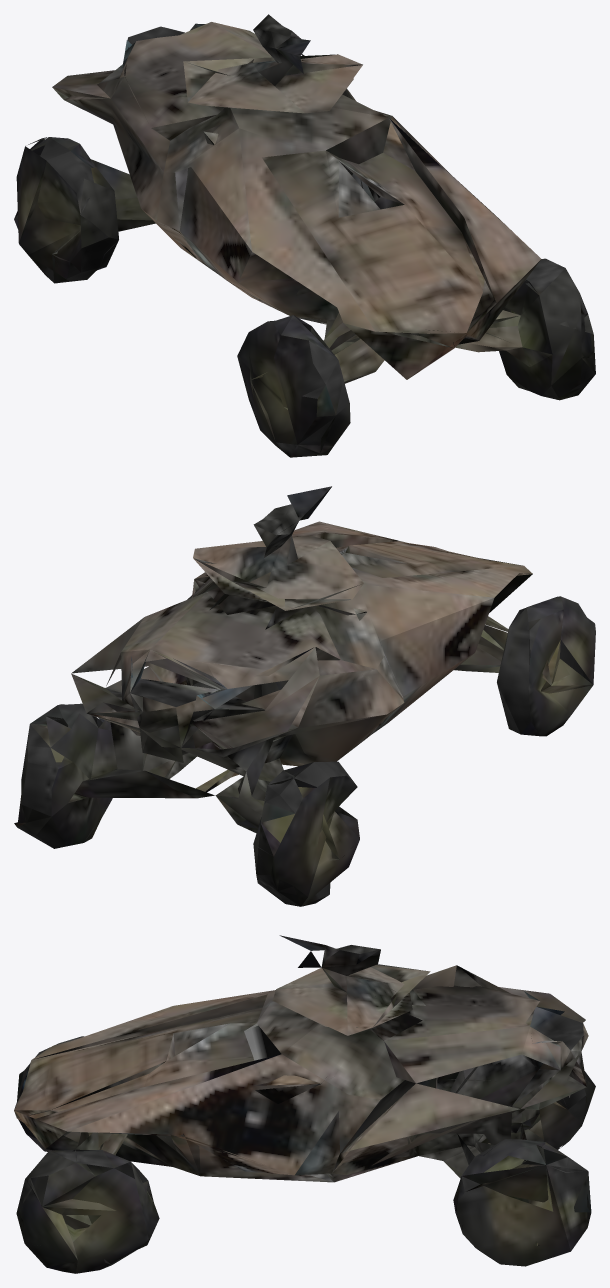
The model's file is buggy_1310892599_lod0.glb.
3 renders of one model, top to bottom at view 1: azimuth 30°, elevation 25°; view 2: azimuth 150°, elevation 25°; view 3: azimuth 270°, elevation 25°, orthographic. The views are drawn at different scales.
Bounding box in the file's own units: 2.43 × 2.29 × 4.44.
Materials: 1 (1 with a texture image).
